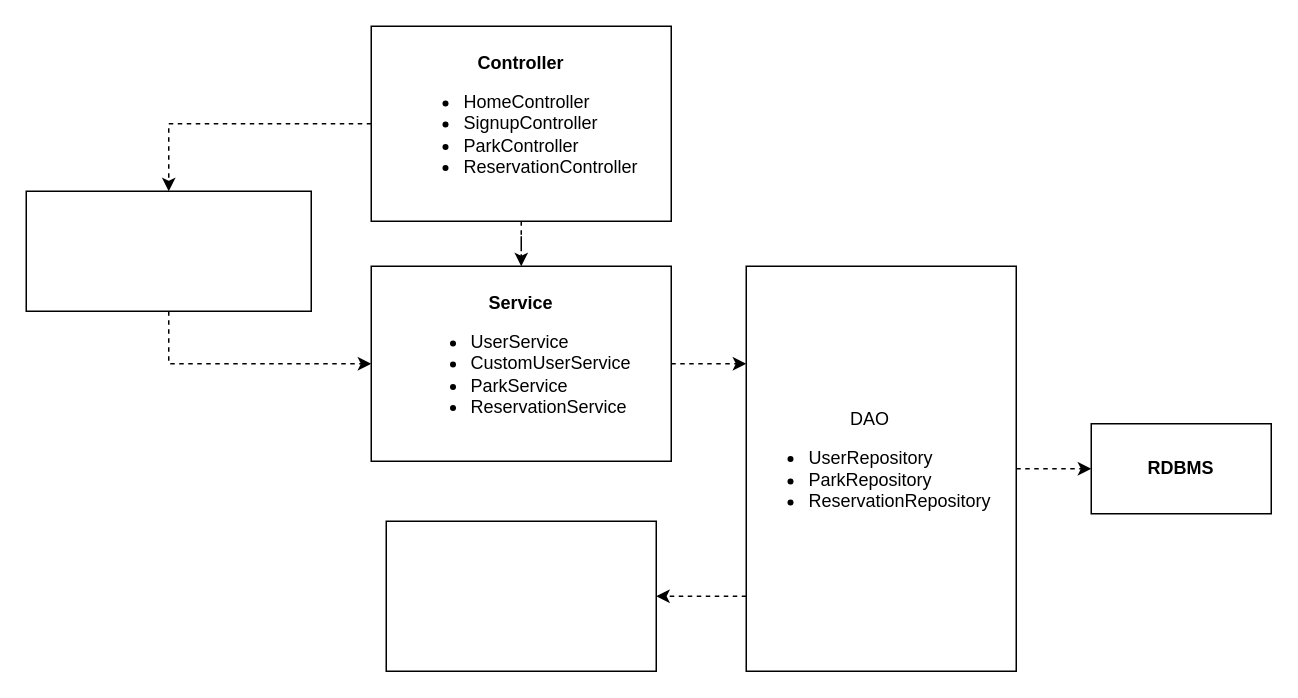
Some shapes in this 1298 by 698 pixel diagram are drawn without their labels. Each missing label, with the box of its shape:
Model User Park Reservation: (385, 520, 656, 671)
Security WebSecurityConfig: (25, 190, 311, 311)
